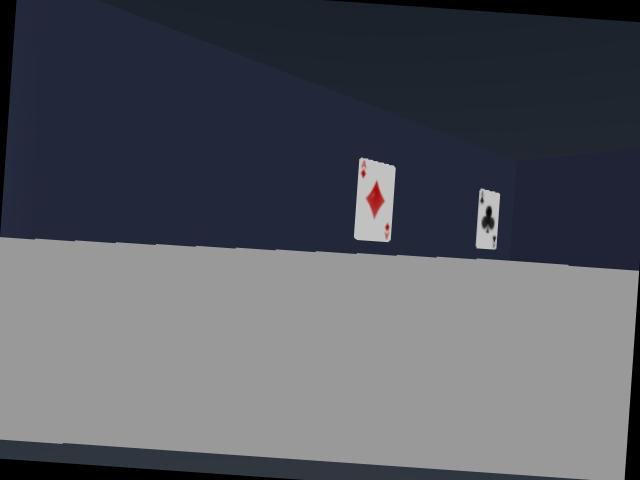club: (475, 189, 499, 249)
diamond: (354, 158, 395, 241)
